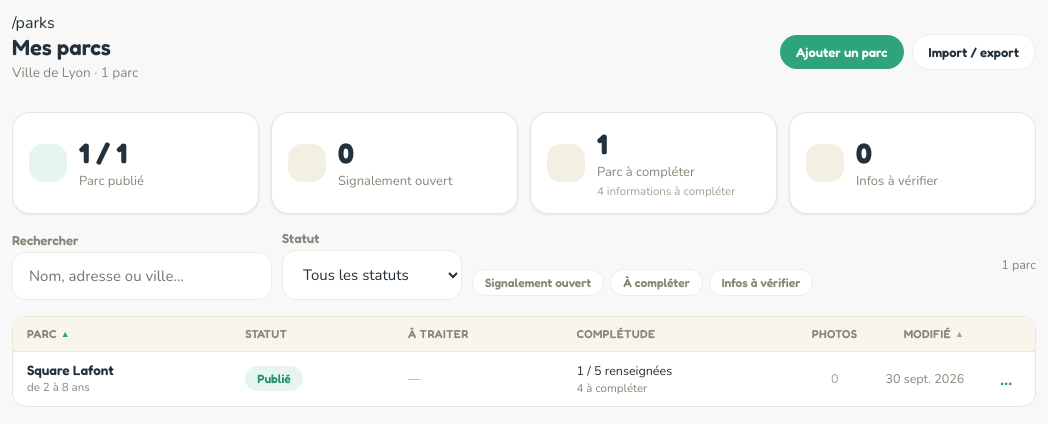
Test: CommuneParks — Mes parcs (COLL-03B) › status transitions in the row menu require edit permission
Expected: the text "Square Lafont" is shown, [27,362,114,378]
Click the button named "Actions — Square Lafont" at (1007, 378), box [992,368,1021,388]
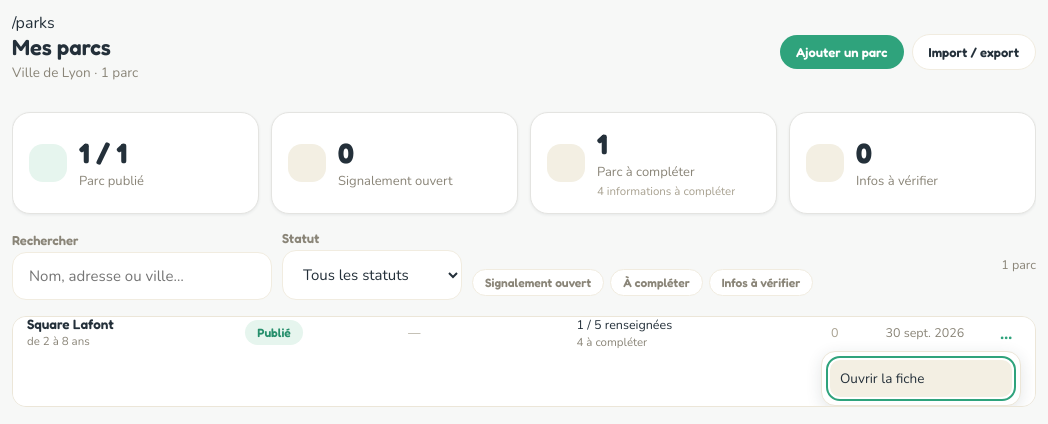
Expected: the menu item "Ouvrir la fiche" is shown, [830,360,1012,396]
